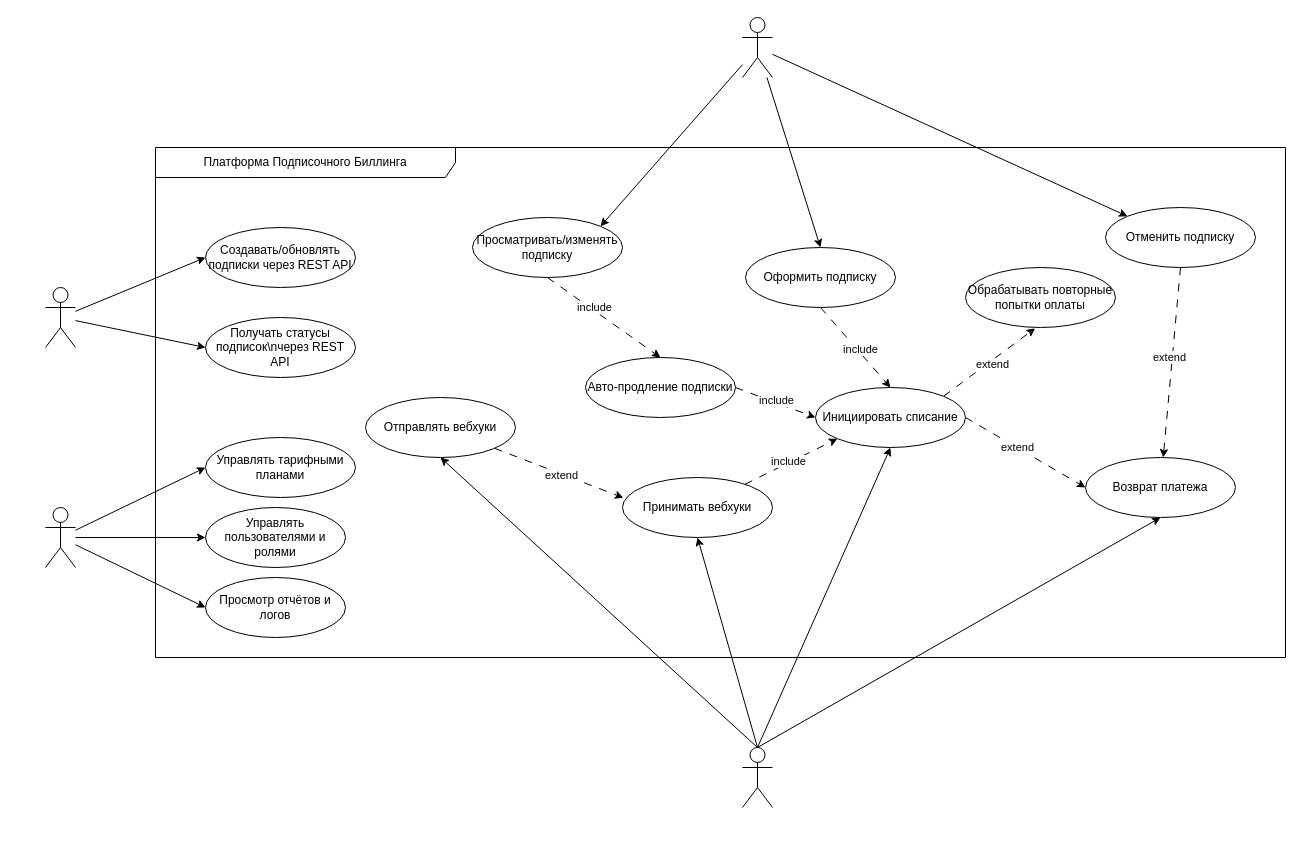
Some shapes in this 1303 by 846 pixel diagram are drawn without their labels. The shapes that lost their labels are listed below. From the top down, each one's centre as x and y in pixels, then its label:
point (757, 47): B2C Клиент
point (60, 317): B2B Клиент
point (60, 537): Администратор
point (757, 777): Платежный провайдер
